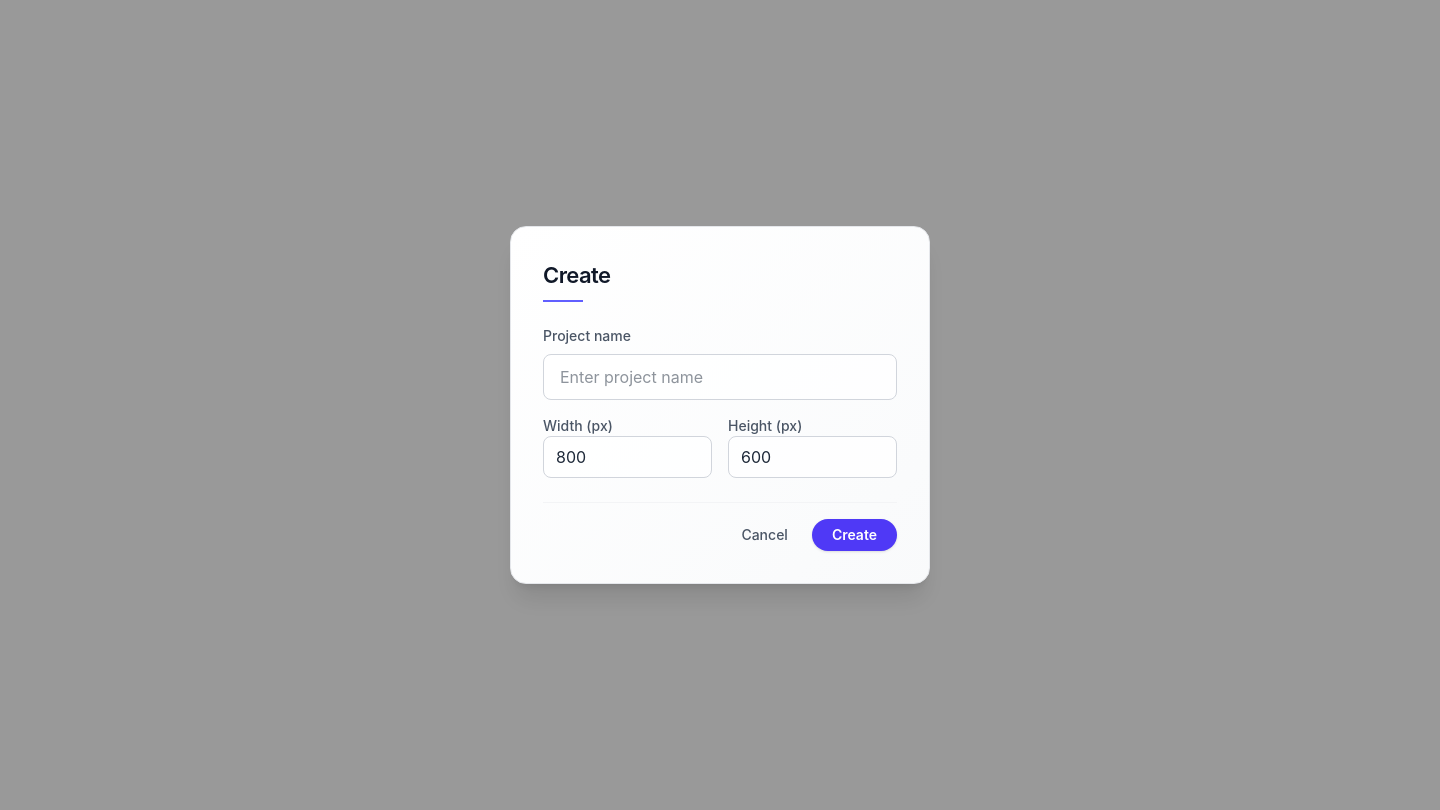
ProjectModalBase (simplified) › shows error when width < 100
Type "X" into the field with test id "project-input" at (720, 377), box x1=543 y1=354 x2=897 y2=400
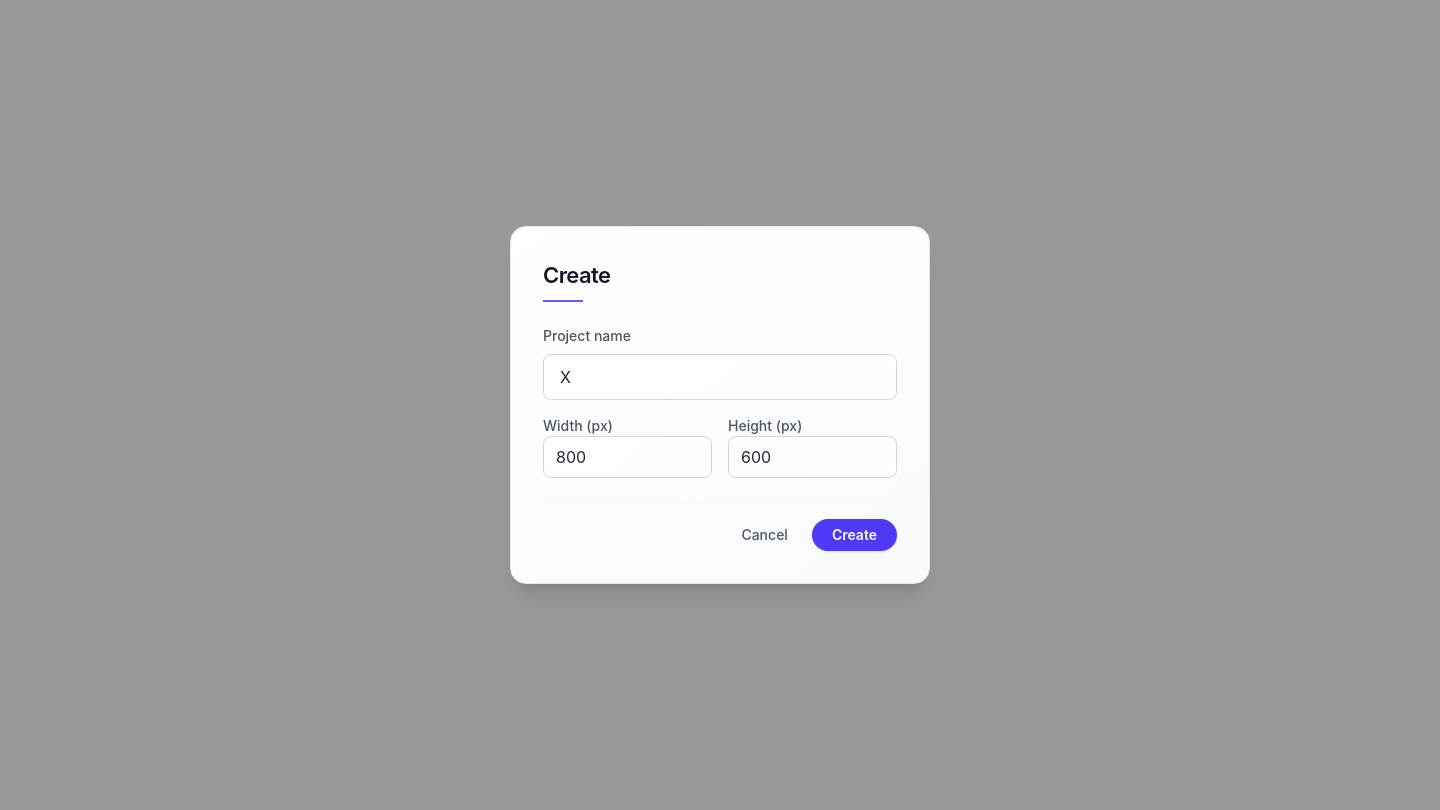
Replace the text in the number field with test id "canvas-width" with "50" at (628, 457), box x1=543 y1=436 x2=712 y2=478
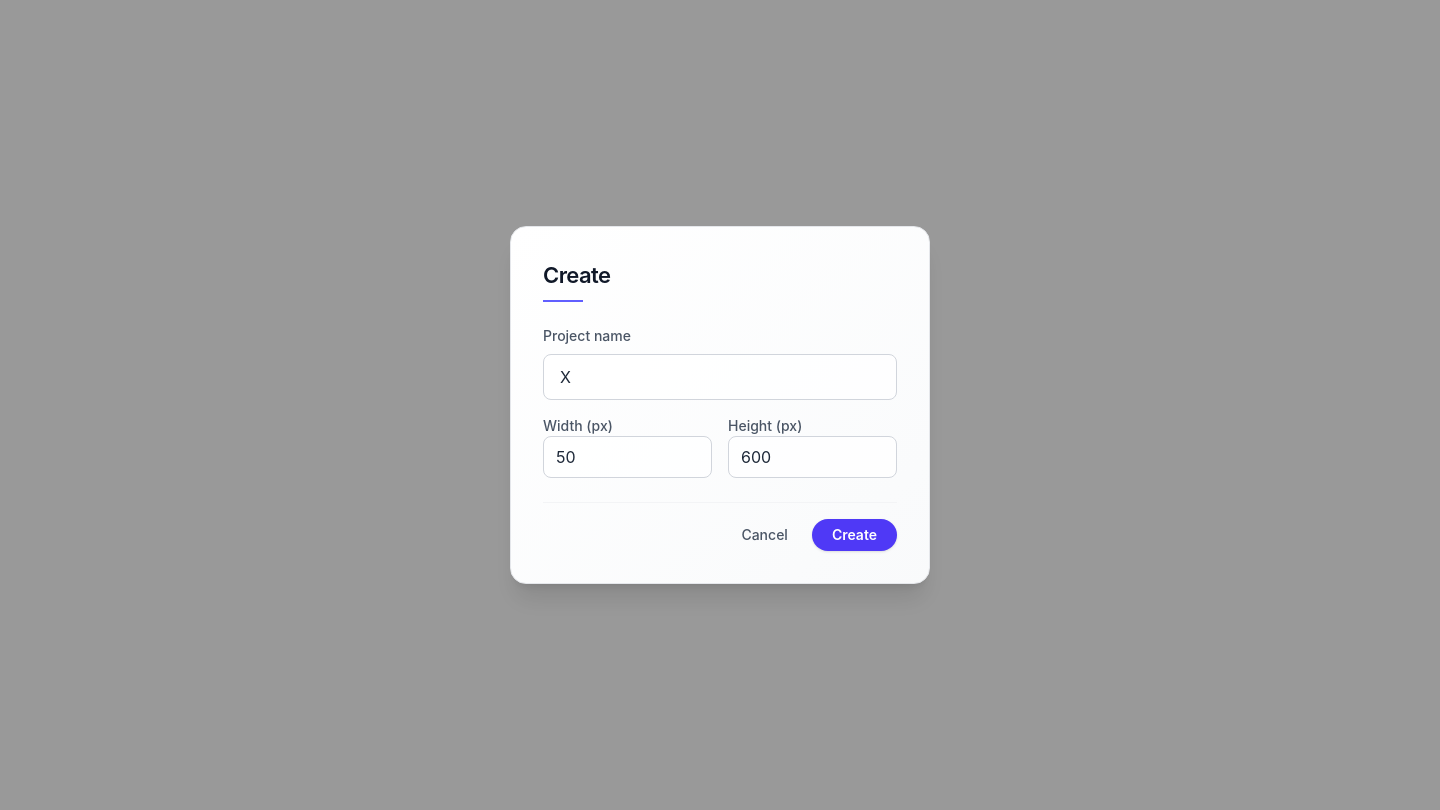
Submit the form with test id "project-form", box x1=510 y1=226 x2=930 y2=584
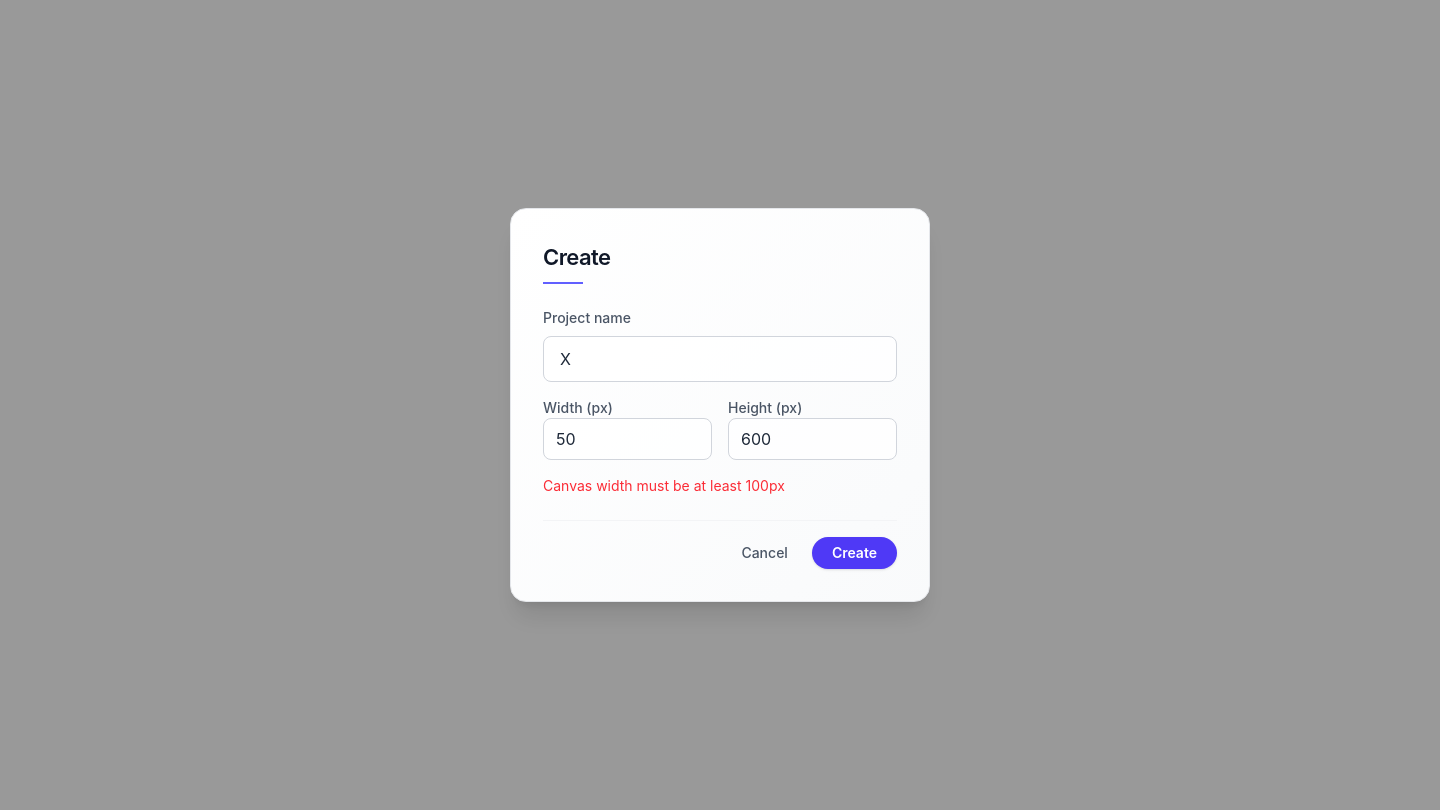
Now the text "Canvas width must be at least 100px" is shown, box x1=543 y1=477 x2=785 y2=494
